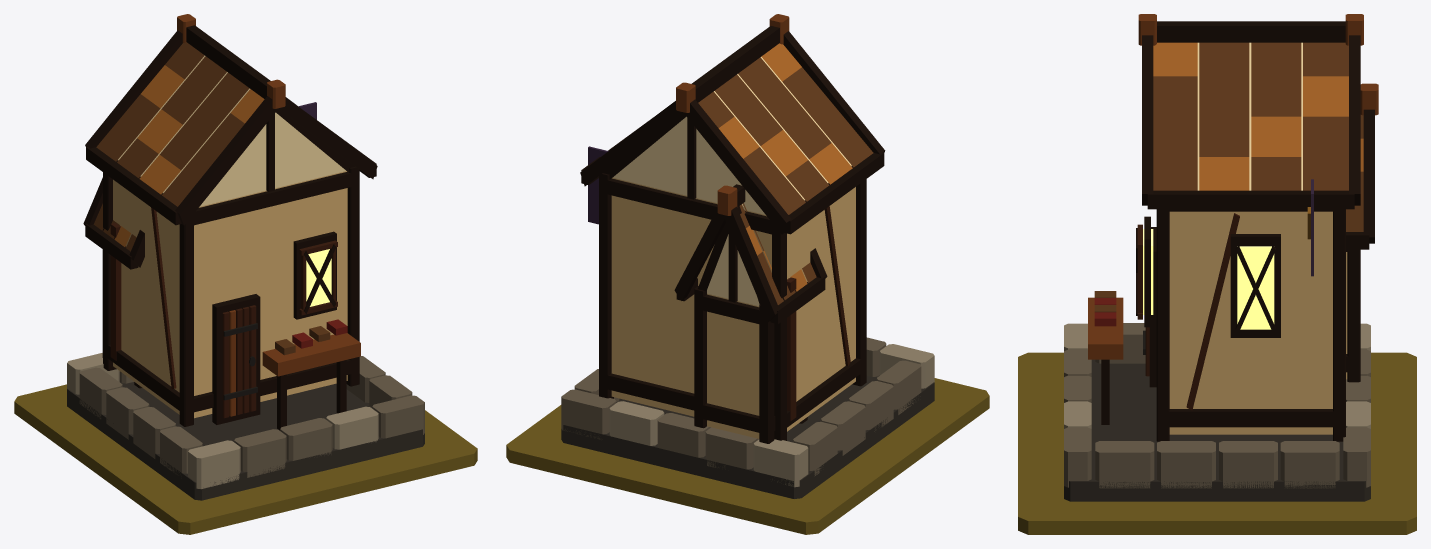
Rendered from scriptorium_t4.glb.
3 views of the same model, side by side, from view 1: azimuth 30°, elevation 25°; view 2: azimuth 150°, elevation 25°; view 3: azimuth 270°, elevation 25° (orthographic). The views are drawn at different scales.
Visible parts, largest first — view 1: MMR | scriptorium | T04 Architecture.001, MMR | scriptorium | Tier 04 Ground.001; view 2: MMR | scriptorium | T04 Architecture.001, MMR | scriptorium | Tier 04 Ground.001, MMR | scriptorium | T04 Banner Flag 1.001; view 3: MMR | scriptorium | T04 Architecture.001, MMR | scriptorium | Tier 04 Ground.001.
Boxes of the visible parts, x1,y1,x2,y2 form: MMR | scriptorium | T04 Architecture.001: (67, 14, 424, 500); MMR | scriptorium | Tier 04 Ground.001: (14, 384, 477, 534); MMR | scriptorium | T04 Architecture.001: (561, 14, 934, 498); MMR | scriptorium | Tier 04 Ground.001: (506, 378, 989, 534); MMR | scriptorium | T04 Banner Flag 1.001: (588, 146, 608, 224); MMR | scriptorium | T04 Architecture.001: (1064, 14, 1378, 501); MMR | scriptorium | Tier 04 Ground.001: (1018, 352, 1416, 534).
Bounding box in the file's own units: 1.3 × 1.56 × 1.3.
Materials: 2 (1 with a texture image).
